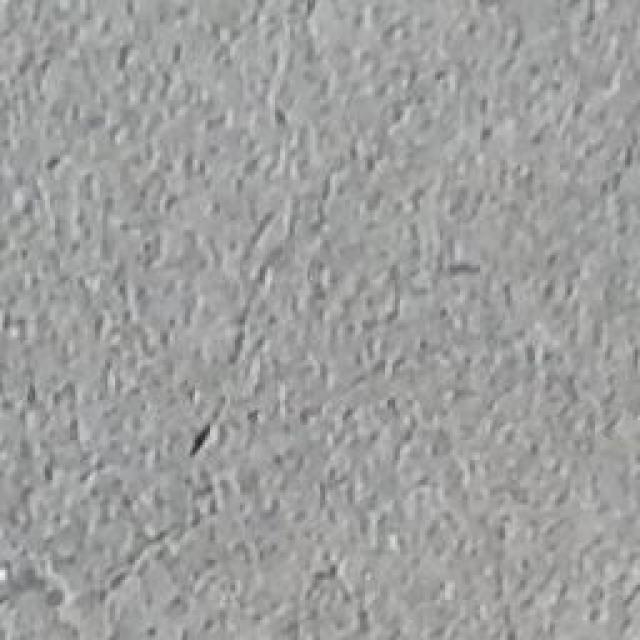concrete-crack: (182, 417, 219, 464)
